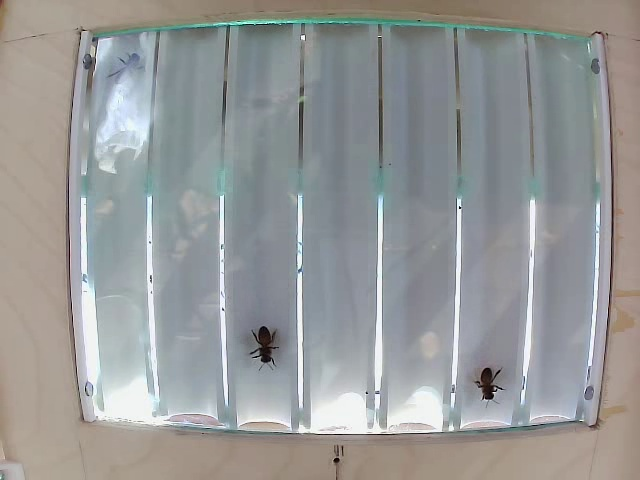bee: (251, 324, 282, 379), (481, 365, 503, 405), (115, 53, 139, 83)
